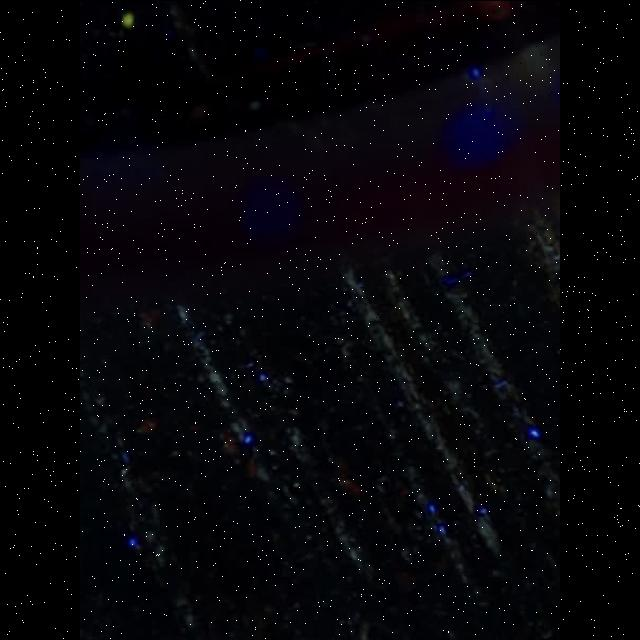microbeads: (121, 10, 137, 28)
